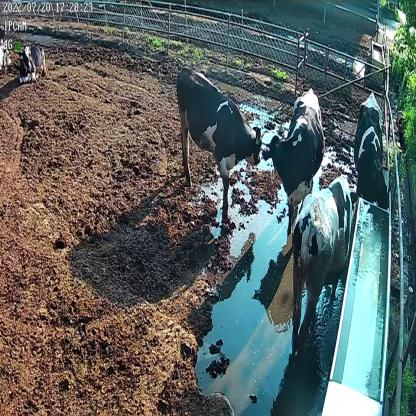cow: (176, 66, 261, 224), (293, 174, 360, 342), (263, 88, 325, 236), (354, 86, 392, 212), (17, 41, 49, 82)
